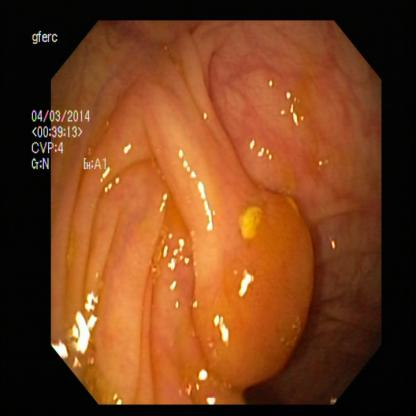Labels: (31, 101, 110, 189), (31, 28, 69, 54)
Polyps: (180, 176, 322, 381)
